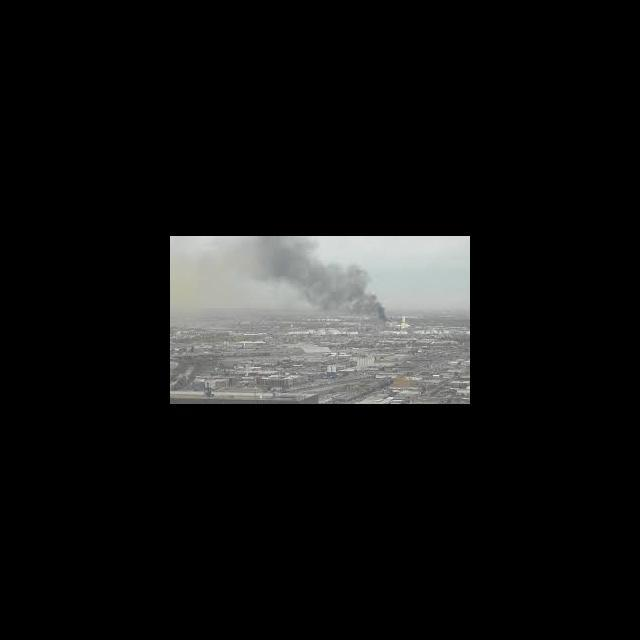Smoke: (172, 237, 388, 317)
